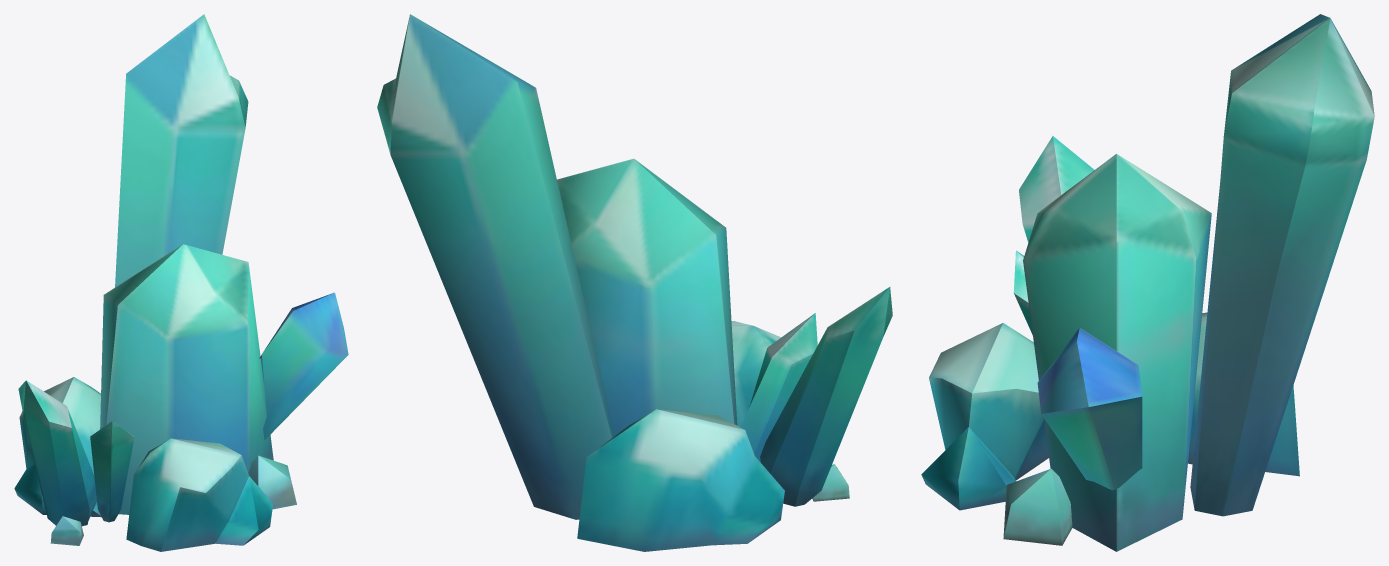
Rendered from shuijing_01.FBX.
The picture shows the model from 3 angles, left to right: view 1: azimuth 30°, elevation 25°; view 2: azimuth 150°, elevation 25°; view 3: azimuth 270°, elevation 25°; orthographic projection. The views are drawn at different scales.
Visible parts, largest first — view 1: shuijing_01; view 2: shuijing_01; view 3: shuijing_01.
Boxes of the visible parts, x1=… form: shuijing_01: x1=14, y1=14, x2=348, y2=551; shuijing_01: x1=377, y1=14, x2=892, y2=551; shuijing_01: x1=921, y1=14, x2=1374, y2=551.
Bounding box in the file's own units: 75.03 × 85.82 × 65.4.
